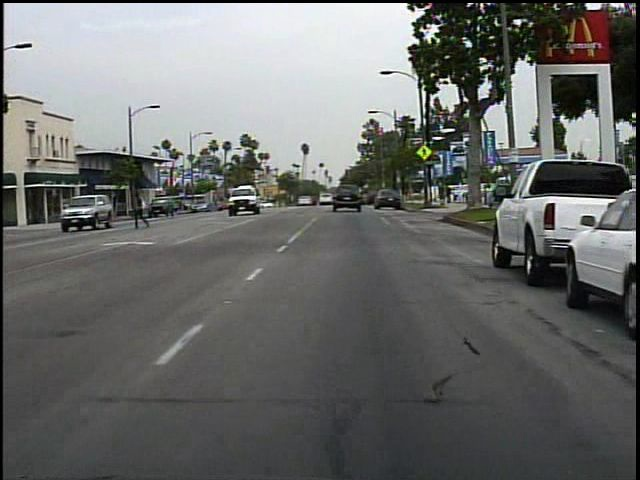person: (130, 187, 156, 231)
